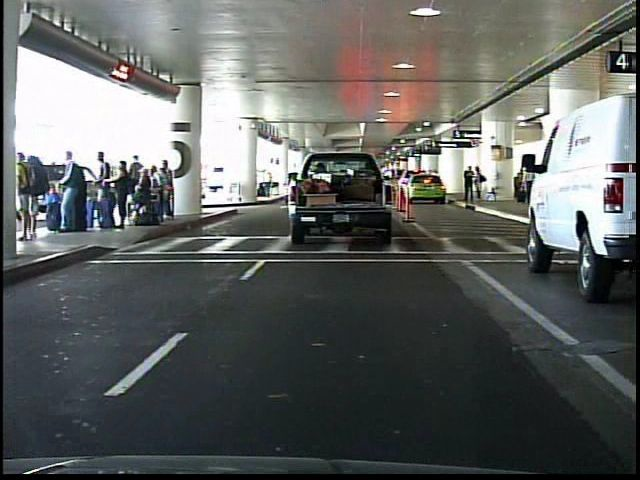person: (473, 165, 487, 203), (463, 165, 475, 203)
